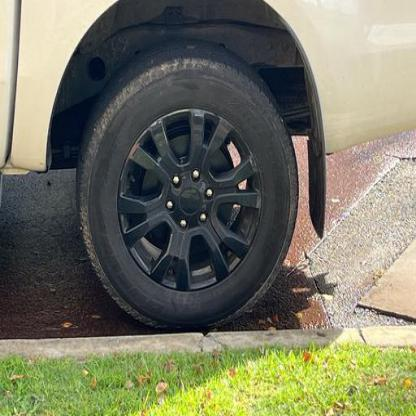Tire: (75, 43, 300, 333)
